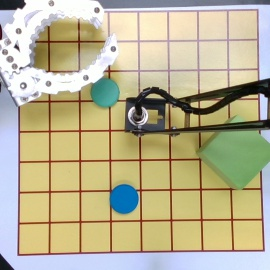blue: (109, 184, 139, 214)
green: (90, 78, 119, 107)
